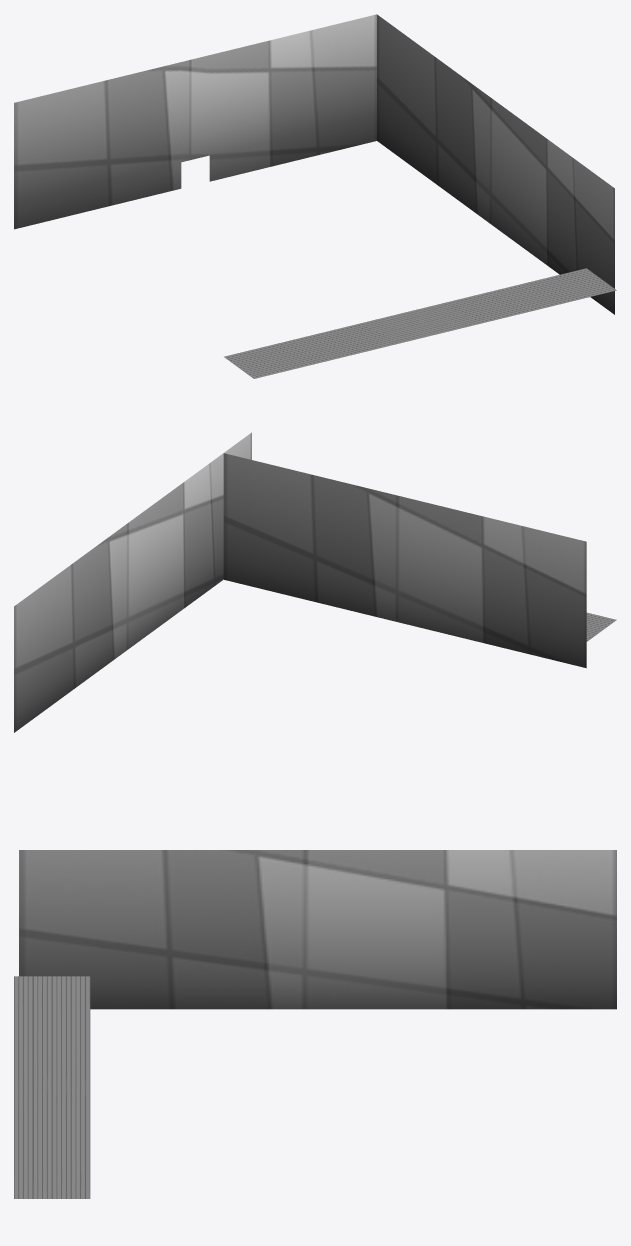
The model's file is field_maze_level.glb.
3 views of the same model, one above another, from view 1: azimuth 30°, elevation 25°; view 2: azimuth 150°, elevation 25°; view 3: azimuth 270°, elevation 25° (orthographic). The views are drawn at different scales.
Parts seen in each view (by area): view 1: wallBarrier1, wallBarrier3, shelf; view 2: wallBarrier2, wallBarrier3; view 3: wallBarrier4, shelf.
Boxes of the visible parts, bbox=[...] form: wallBarrier1: bbox=[14, 14, 376, 229]; wallBarrier3: bbox=[377, 14, 614, 314]; shelf: bbox=[224, 268, 616, 378]; wallBarrier2: bbox=[223, 453, 586, 668]; wallBarrier3: bbox=[14, 432, 251, 732]; wallBarrier4: bbox=[19, 850, 616, 1009]; shelf: bbox=[14, 976, 90, 1198].
Size of the model in its own units: 153 by 51 by 175.
3 materials, 3 textured.
